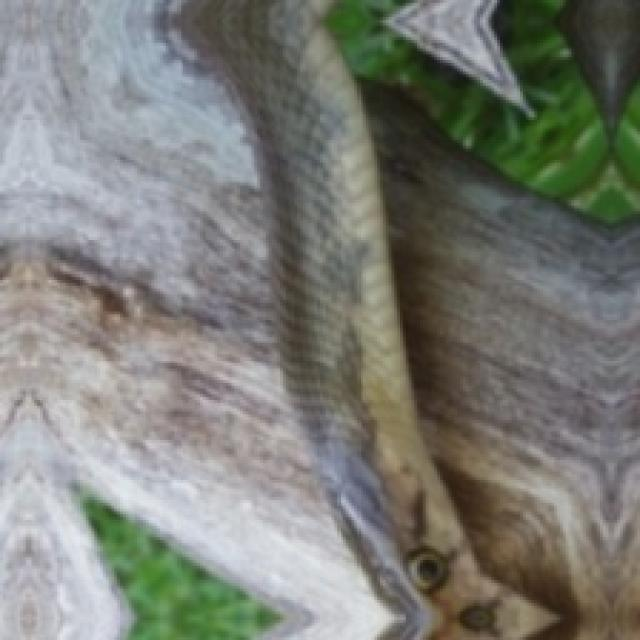reddish rat snake: (183, 0, 557, 637)
